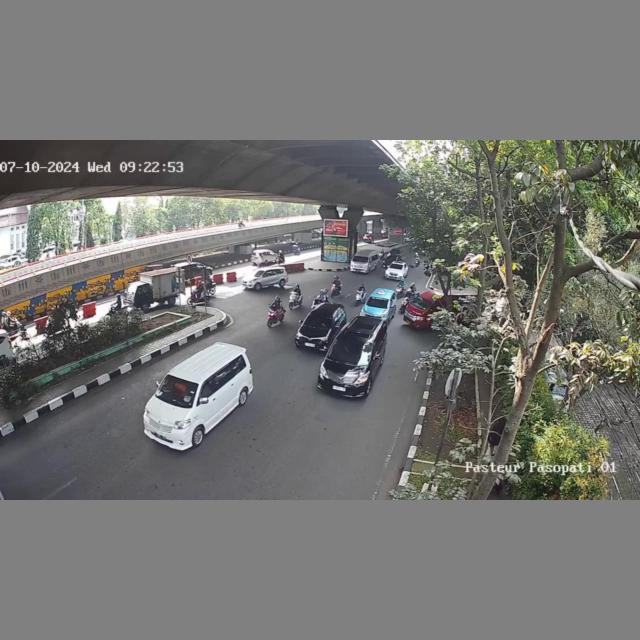windshield: (155, 375, 199, 408), (324, 337, 373, 363), (302, 312, 333, 329), (365, 297, 389, 309)
